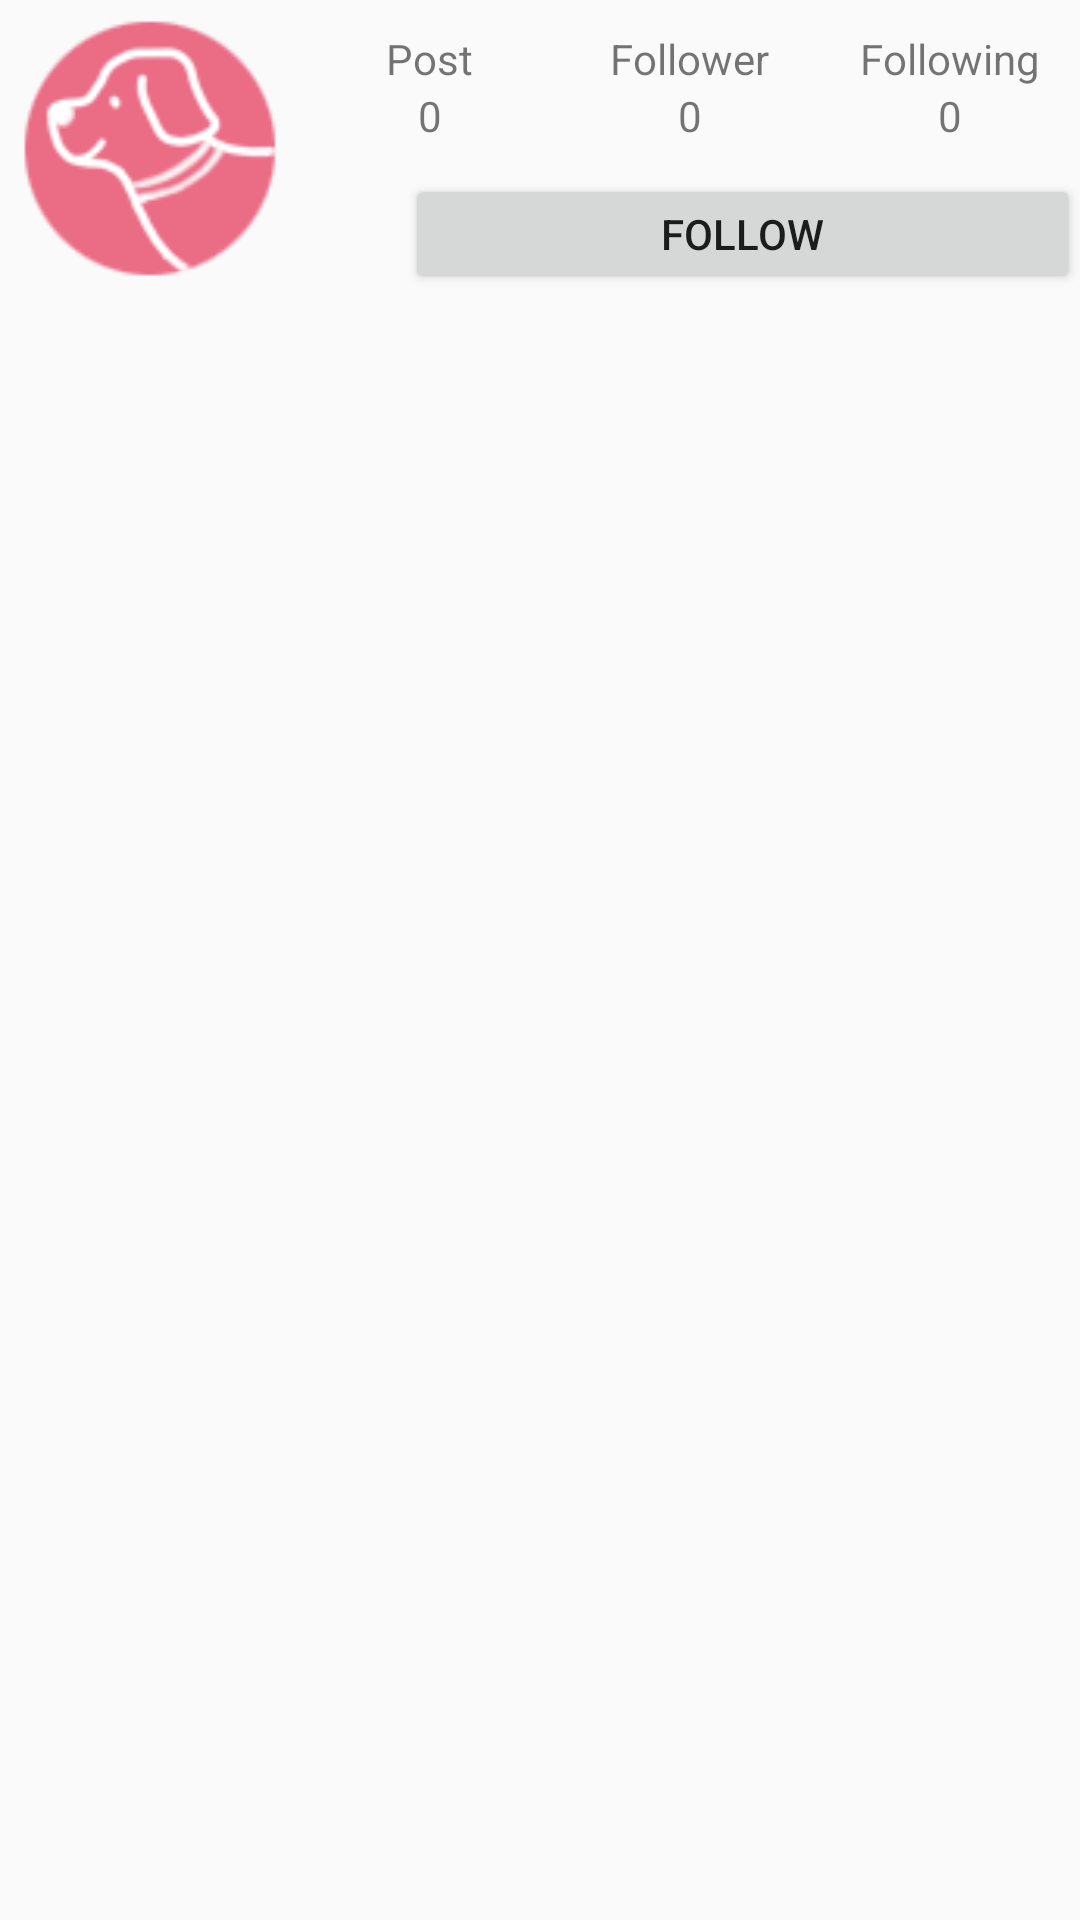

Named icons in this screenshot (1080 × 1920) and their centers, (x=x, y=y):
account: (x=150, y=148)
